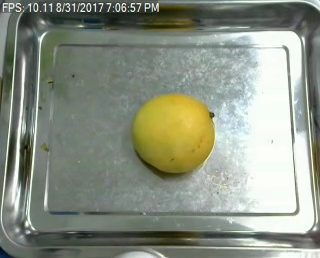Mango: (131, 94, 214, 174)
